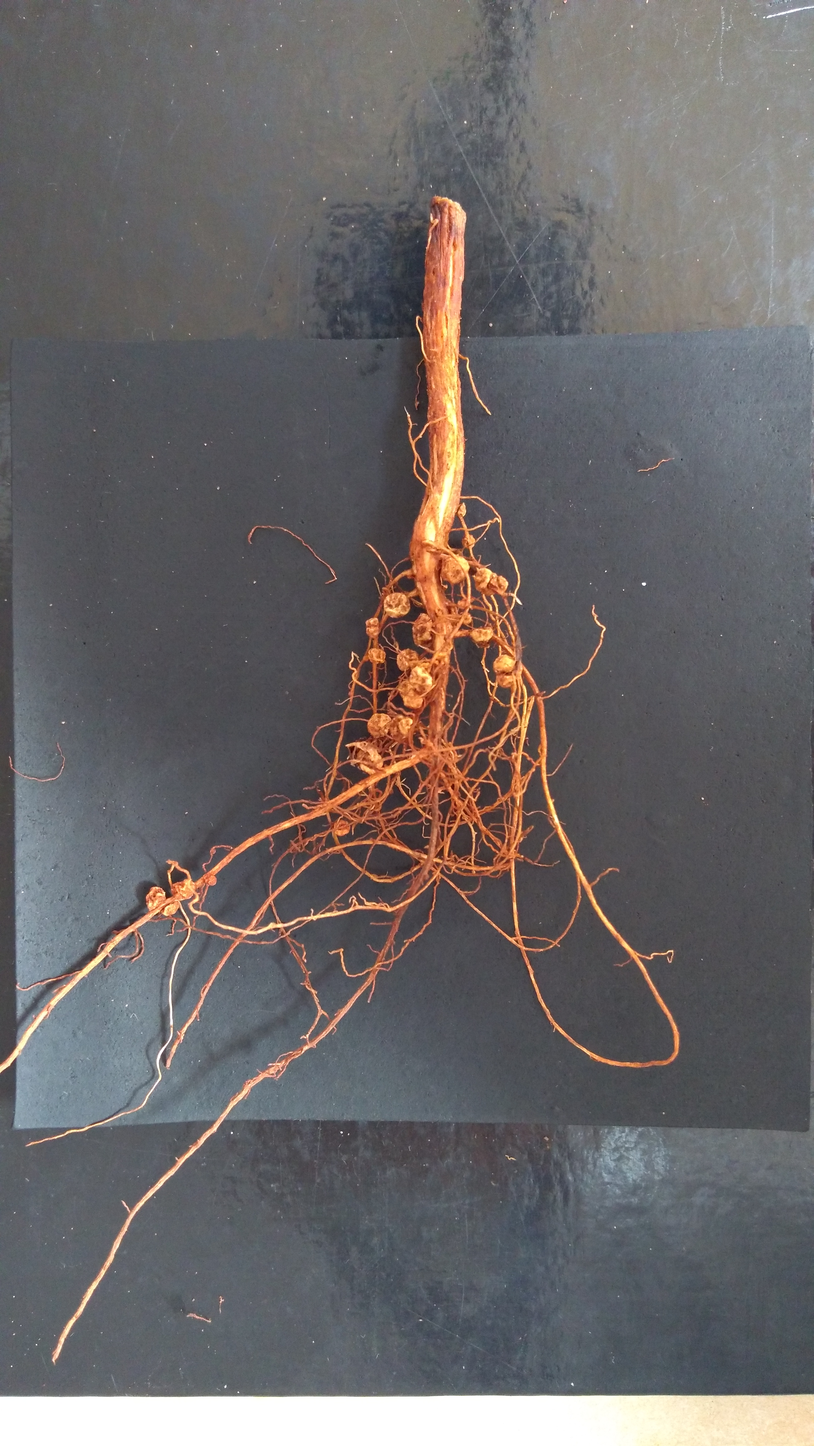nodule: (343, 740, 385, 775), (439, 553, 471, 586), (382, 590, 413, 619), (398, 679, 424, 712), (411, 611, 434, 647), (407, 665, 434, 694), (365, 711, 392, 740), (473, 565, 496, 597), (395, 646, 419, 673), (169, 878, 196, 902), (487, 569, 509, 598), (144, 885, 167, 912), (390, 713, 415, 737), (491, 653, 517, 675), (470, 624, 495, 643), (433, 615, 454, 637), (493, 671, 517, 690), (366, 646, 387, 665), (365, 616, 381, 639), (332, 818, 351, 837), (161, 901, 180, 917), (460, 533, 476, 549), (455, 501, 467, 519), (207, 874, 218, 887), (461, 612, 472, 625)
